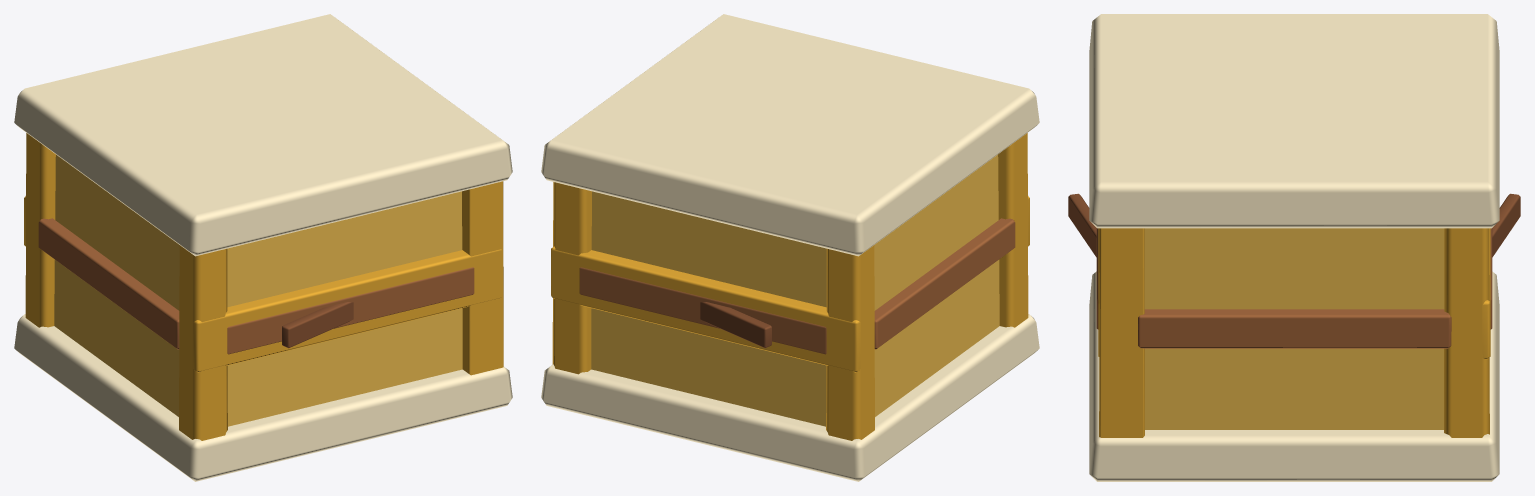
Rendered from tunnel_box.glb.
3 views of the same model, side by side, from view 1: azimuth 30°, elevation 25°; view 2: azimuth 150°, elevation 25°; view 3: azimuth 270°, elevation 25° (orthographic). The views are drawn at different scales.
Parts seen in each view (by area): view 1: tunnel_box; view 2: tunnel_box; view 3: tunnel_box.
Boxes of the visible parts, x1=… form: tunnel_box: x1=14, y1=14, x2=512, y2=481; tunnel_box: x1=541, y1=14, x2=1039, y2=481; tunnel_box: x1=1068, y1=14, x2=1520, y2=481.
Bounding box in the file's own units: 1.23 × 0.965 × 1.33.
